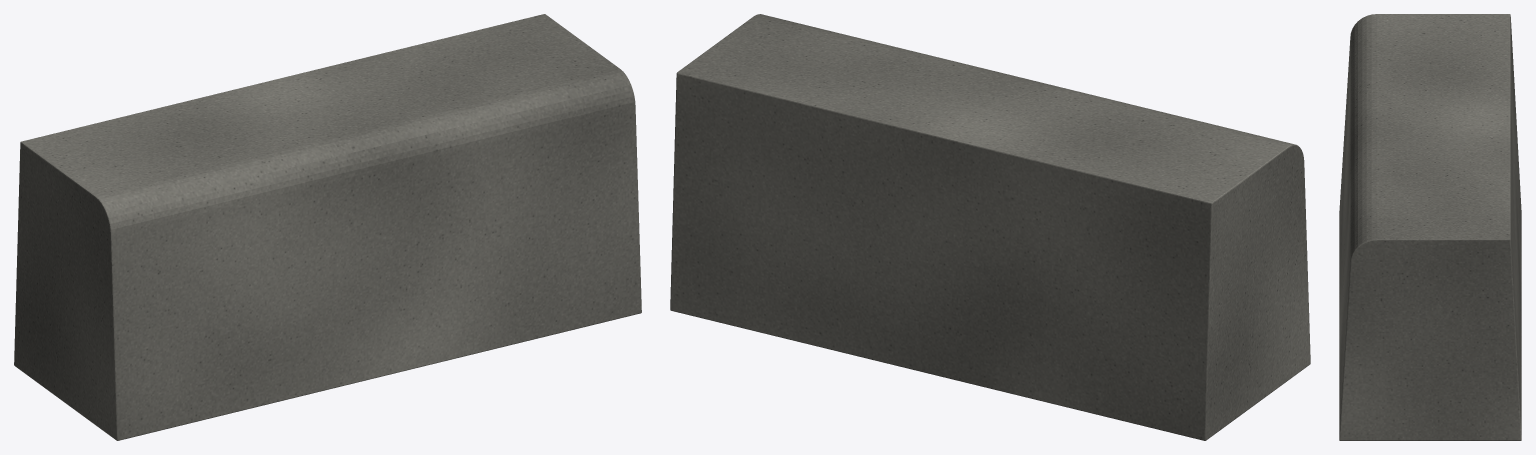
File: concrete_curb_straight.glb
3 views of the same model, side by side, from view 1: azimuth 30°, elevation 25°; view 2: azimuth 150°, elevation 25°; view 3: azimuth 270°, elevation 25° (orthographic). The views are drawn at different scales.
Parts seen in each view (by area): view 1: Precast tapered curb with rounded shoulder; view 2: Precast tapered curb with rounded shoulder; view 3: Precast tapered curb with rounded shoulder.
Part boxes in pixels (x1,y1,x2,y2): Precast tapered curb with rounded shoulder: (14,14,641,440); Precast tapered curb with rounded shoulder: (670,14,1310,440); Precast tapered curb with rounded shoulder: (1339,14,1521,440).
Bounding box in the file's own units: 0.6 × 0.25 × 0.2049.
Materials: 1 (1 with a texture image).
